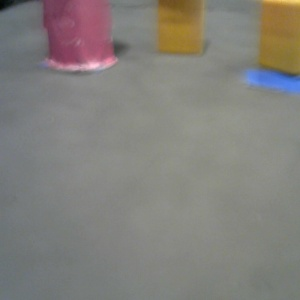right: (195, 1, 254, 38)
